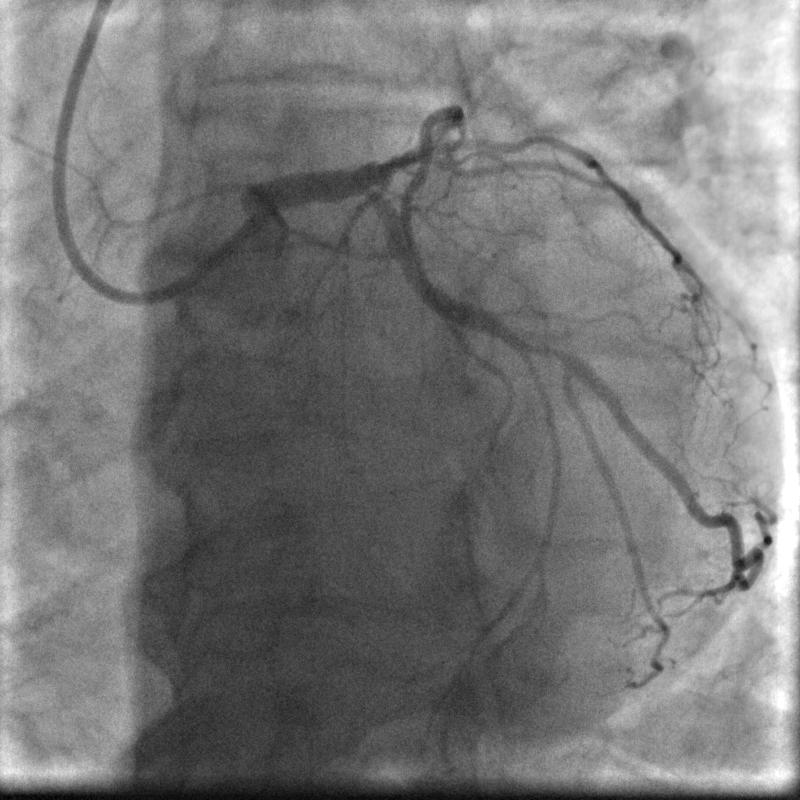Stenosis: (516, 333, 564, 362)
